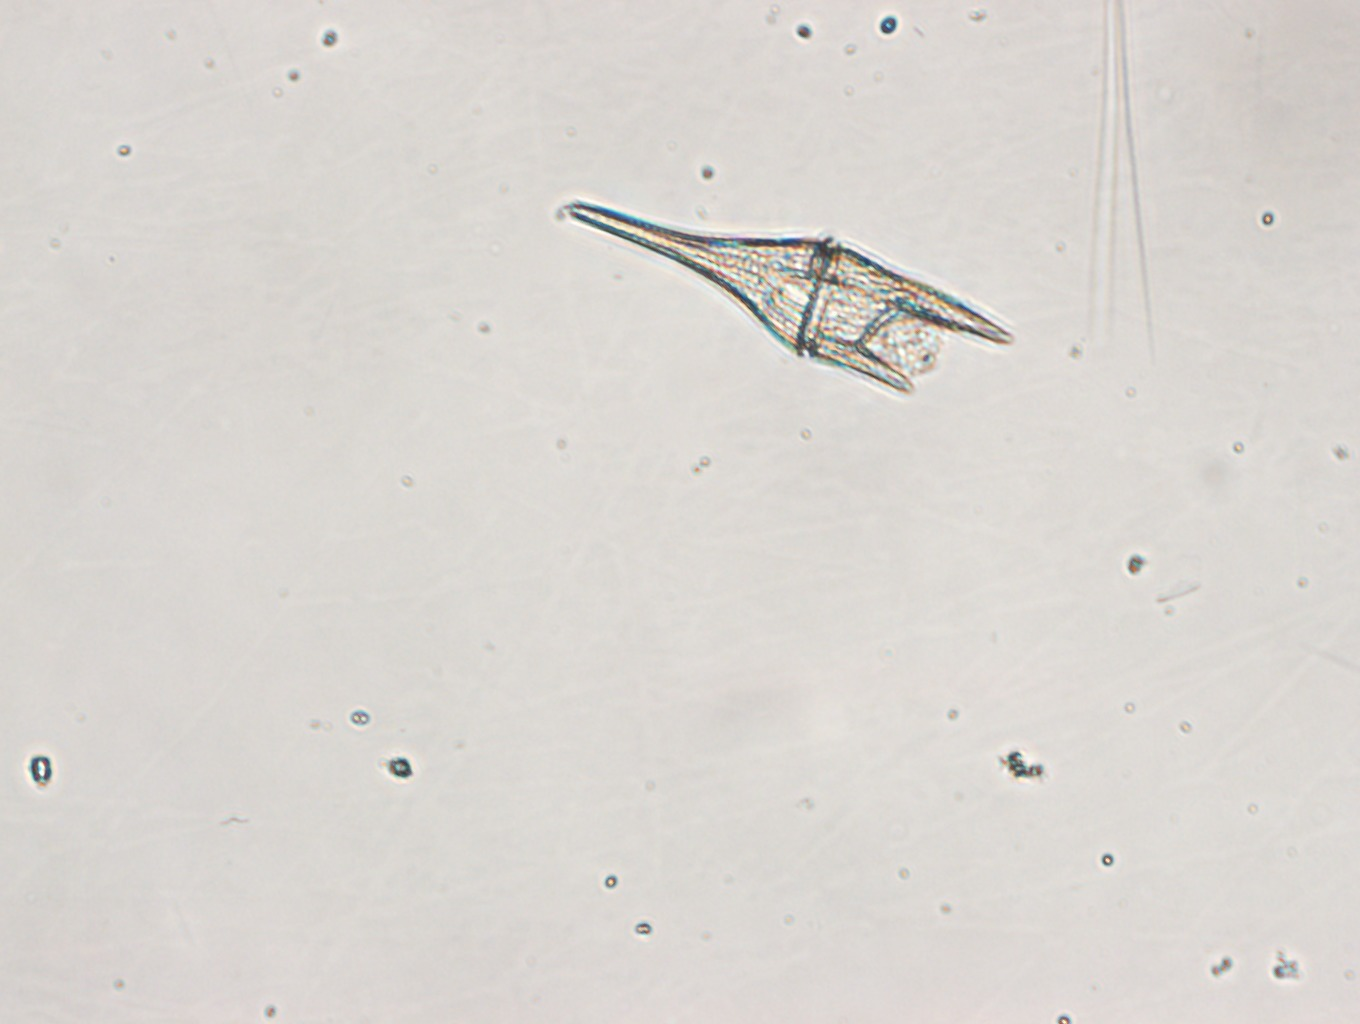ceratium furca: (560, 195, 1016, 406)
